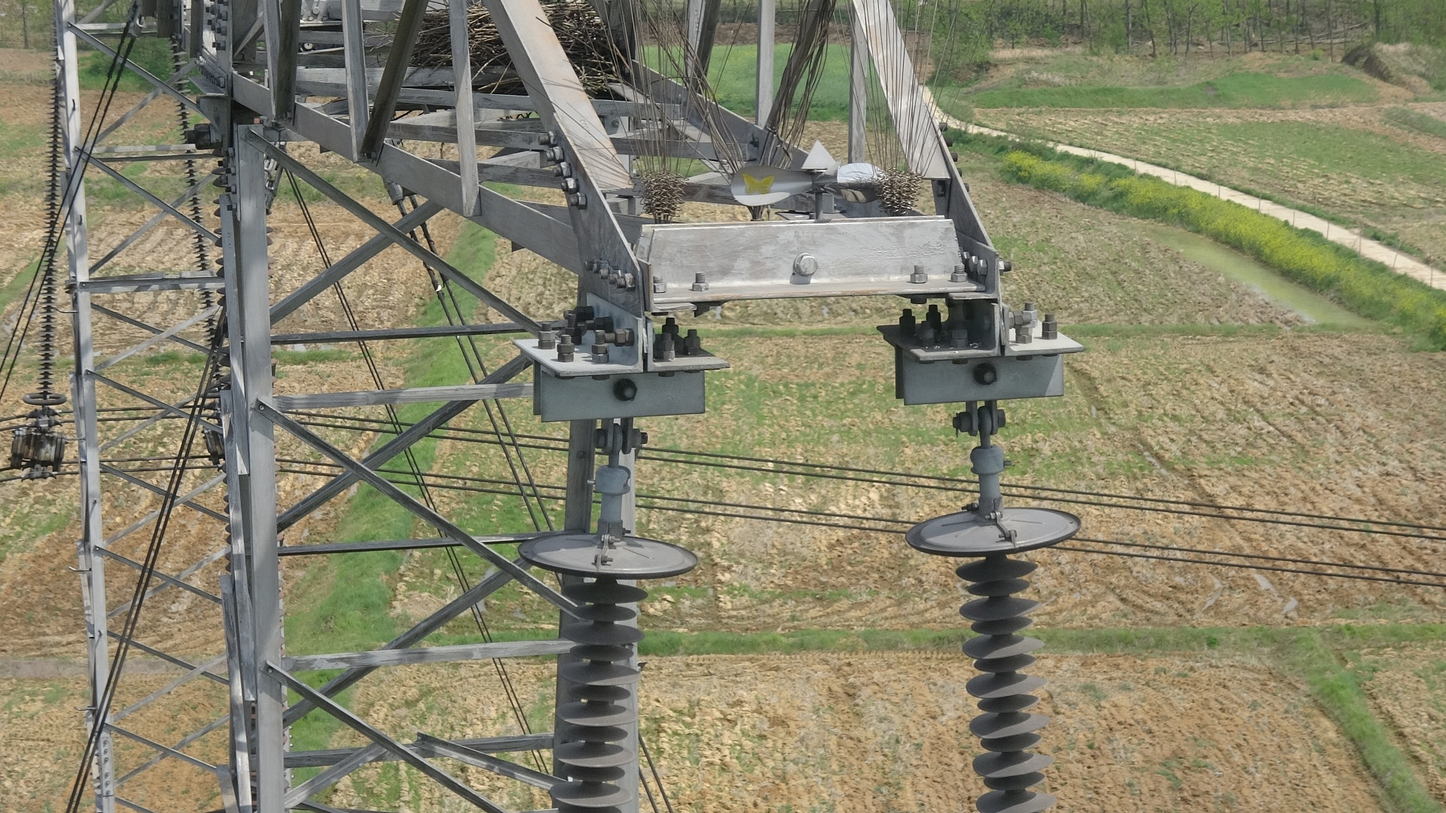insulator: (947, 556, 1059, 813), (538, 579, 654, 813), (166, 32, 220, 336), (34, 79, 65, 397)
